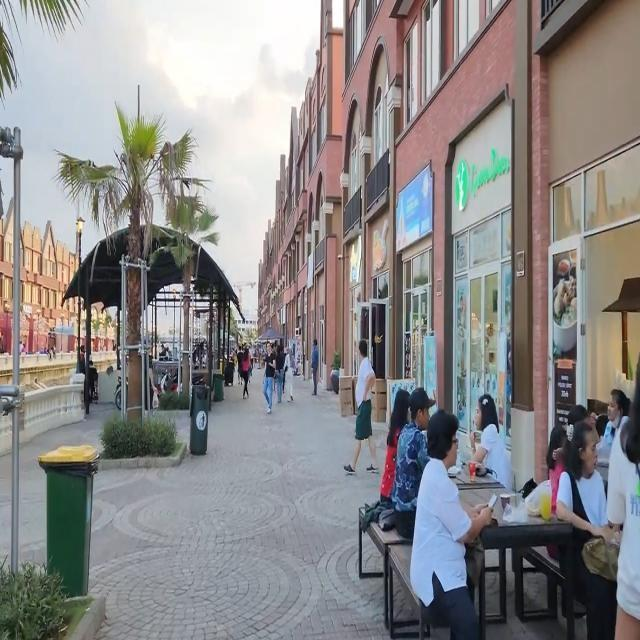hairnet: (607, 398, 625, 430)
